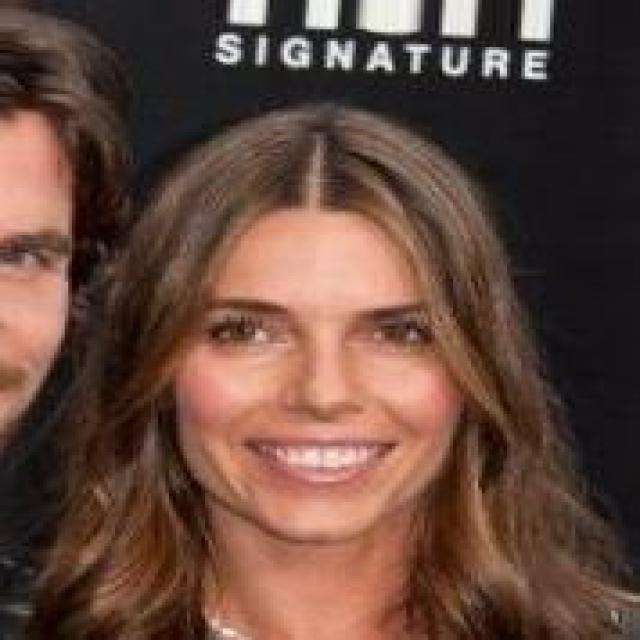bareface: (175, 198, 509, 536)
